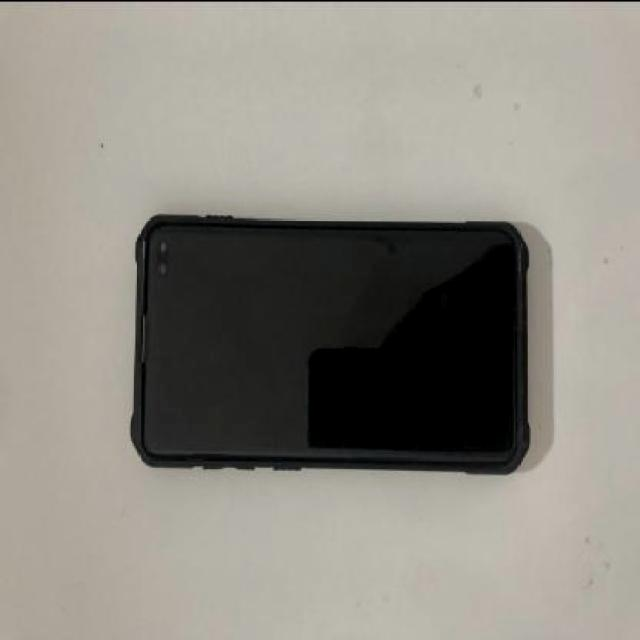phone: (128, 209, 532, 474)
